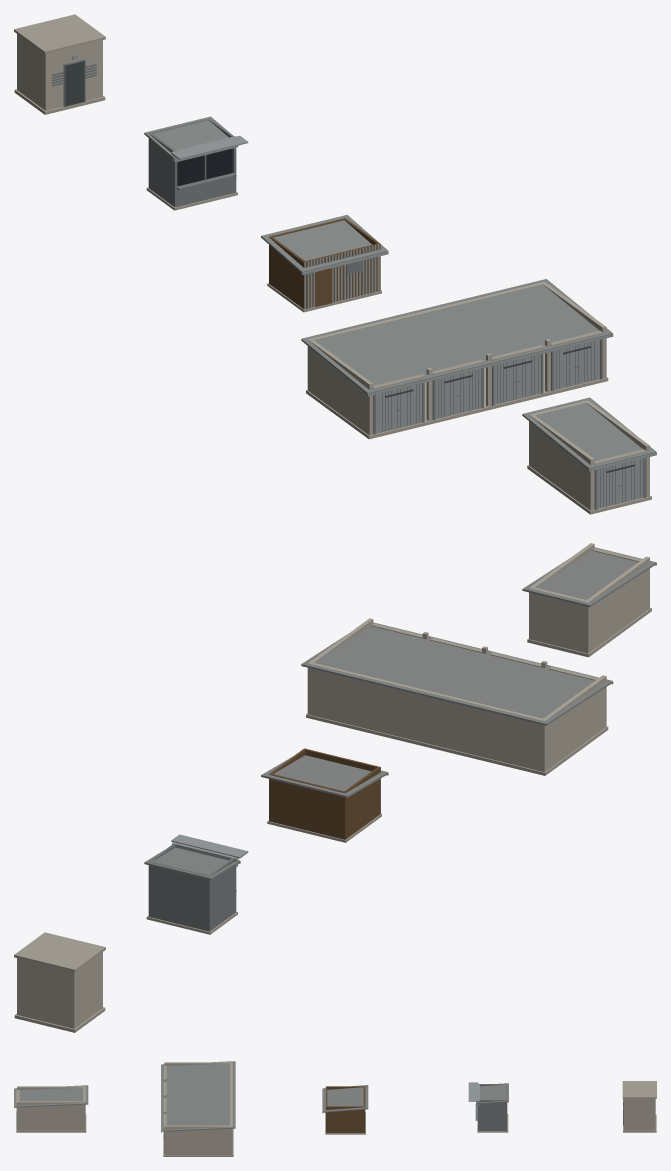
Rendered from outbuildings.glb.
3 views of the same model, one above another, from view 1: azimuth 30°, elevation 25°; view 2: azimuth 150°, elevation 25°; view 3: azimuth 270°, elevation 25° (orthographic). The views are drawn at different scales.
Visible parts, largest first — view 1: garage_row, garage_1, shed_yard, hut_trafo, kiosk; view 2: garage_row, garage_1, shed_yard, kiosk, hut_trafo; view 3: garage_row, garage_1, shed_yard, kiosk, hut_trafo.
Part boxes in pixels (x1=…): garage_row: x1=301, y1=279, x2=613, y2=439; garage_1: x1=522, y1=397, x2=656, y2=514; shed_yard: x1=261, y1=214, x2=388, y2=312; hut_trafo: x1=14, y1=14, x2=105, y2=114; kiosk: x1=144, y1=116, x2=248, y2=210; garage_row: x1=301, y1=618, x2=613, y2=775; garage_1: x1=522, y1=543, x2=656, y2=657; shed_yard: x1=261, y1=748, x2=388, y2=842; kiosk: x1=144, y1=834, x2=248, y2=934; hut_trafo: x1=14, y1=932, x2=105, y2=1032; garage_row: x1=161, y1=1061, x2=235, y2=1156; garage_1: x1=14, y1=1085, x2=88, y2=1132; shed_yard: x1=322, y1=1085, x2=368, y2=1134; kiosk: x1=468, y1=1082, x2=508, y2=1132; hut_trafo: x1=622, y1=1081, x2=656, y2=1132.
Bounding box in the file's own units: 12.84 × 3.17 × 52.45.
